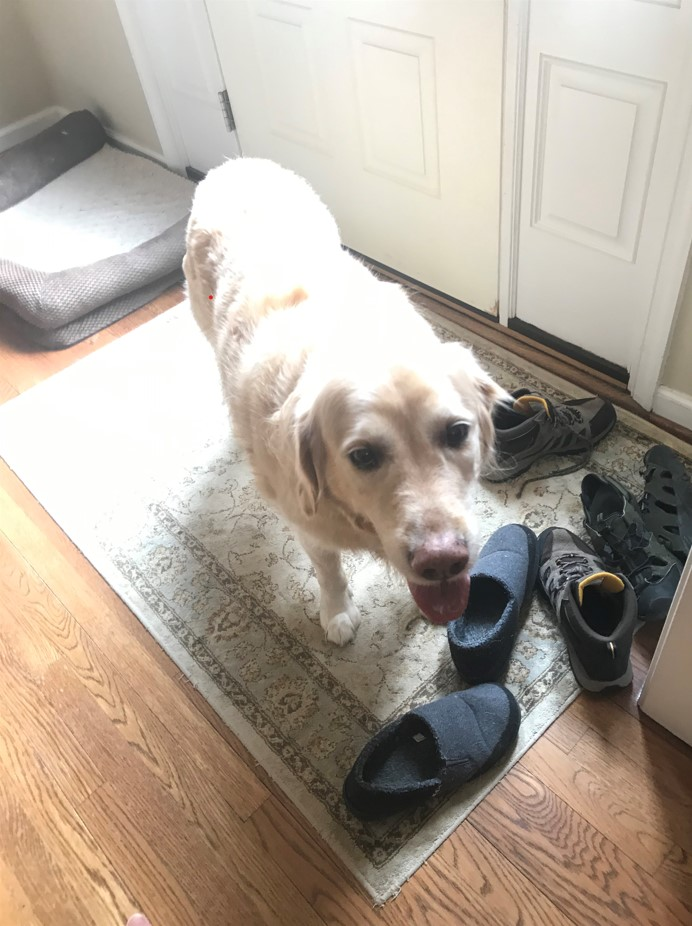bella: (289, 340, 499, 627)
